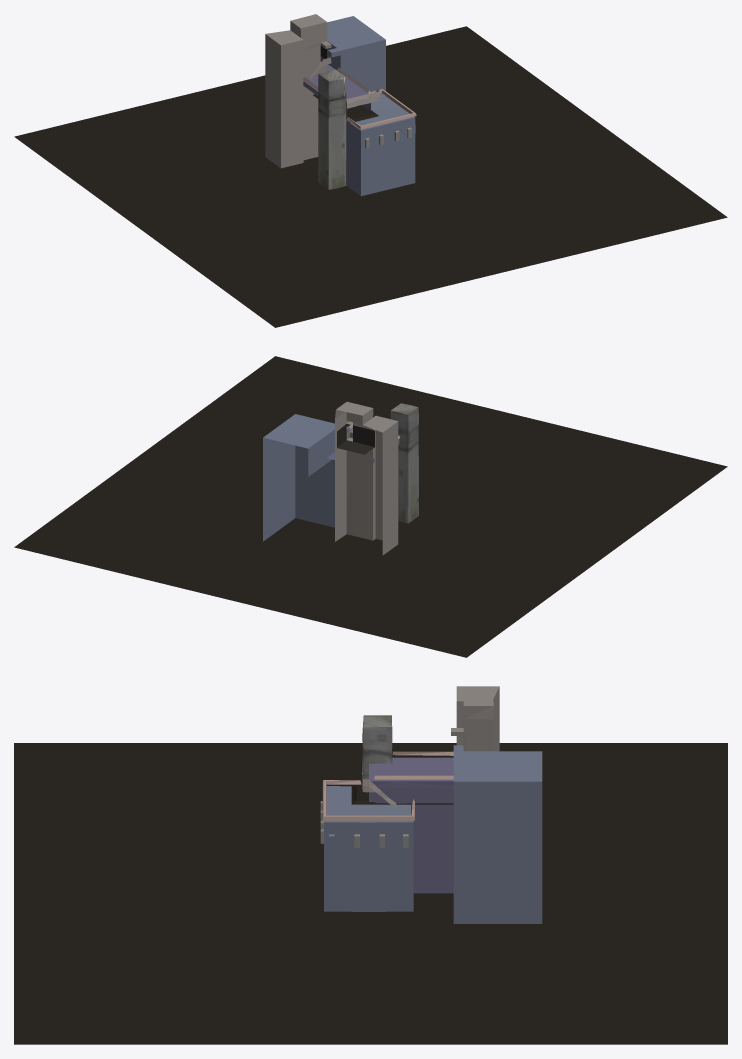
File: rooftop-degenerate.fbx
3 views of the same model, one above another, from view 1: azimuth 30°, elevation 25°; view 2: azimuth 150°, elevation 25°; view 3: azimuth 270°, elevation 25° (orthographic). The views are drawn at different scales.
Visible parts, largest first — view 1: main_tower; view 2: main_tower; view 3: main_tower.
Part boxes in pixels (<box>): main_tower: <box>14,14,727,327</box>; main_tower: <box>14,356,727,657</box>; main_tower: <box>14,686,727,1044</box>.
Bounding box in the file's own units: 10000 × 2803 × 10000.
Materials: 16 (1 with a texture image).
